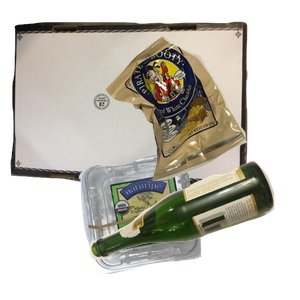cardboard: (10, 19, 250, 199)
glass: (87, 158, 300, 300)
plastic: (76, 151, 270, 300)
trash: (101, 33, 300, 206)
